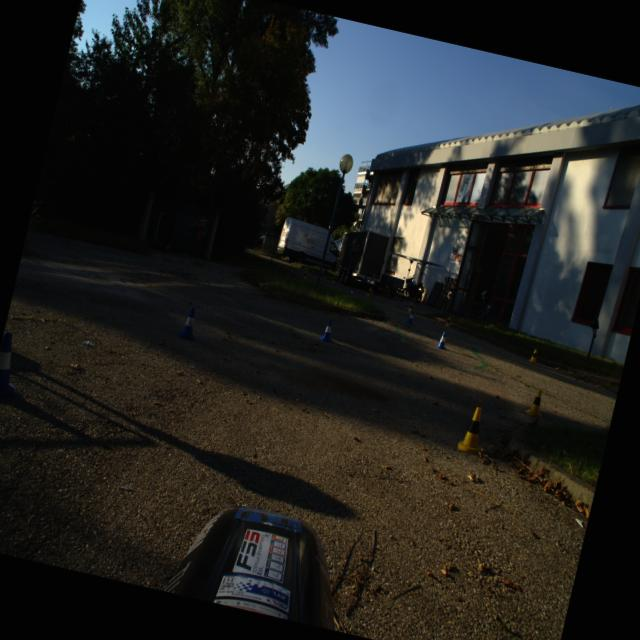blue_cone: (0, 331, 30, 405), (175, 305, 202, 341), (319, 318, 336, 343), (434, 330, 450, 350), (406, 310, 416, 324), (348, 288, 354, 296)
orange_cone: (310, 267, 316, 275)
yellow_cone: (456, 404, 492, 455), (524, 386, 548, 418), (528, 348, 540, 364), (444, 315, 452, 327), (406, 302, 414, 312), (302, 270, 308, 280), (365, 288, 371, 296), (331, 276, 336, 284), (290, 264, 294, 272)
